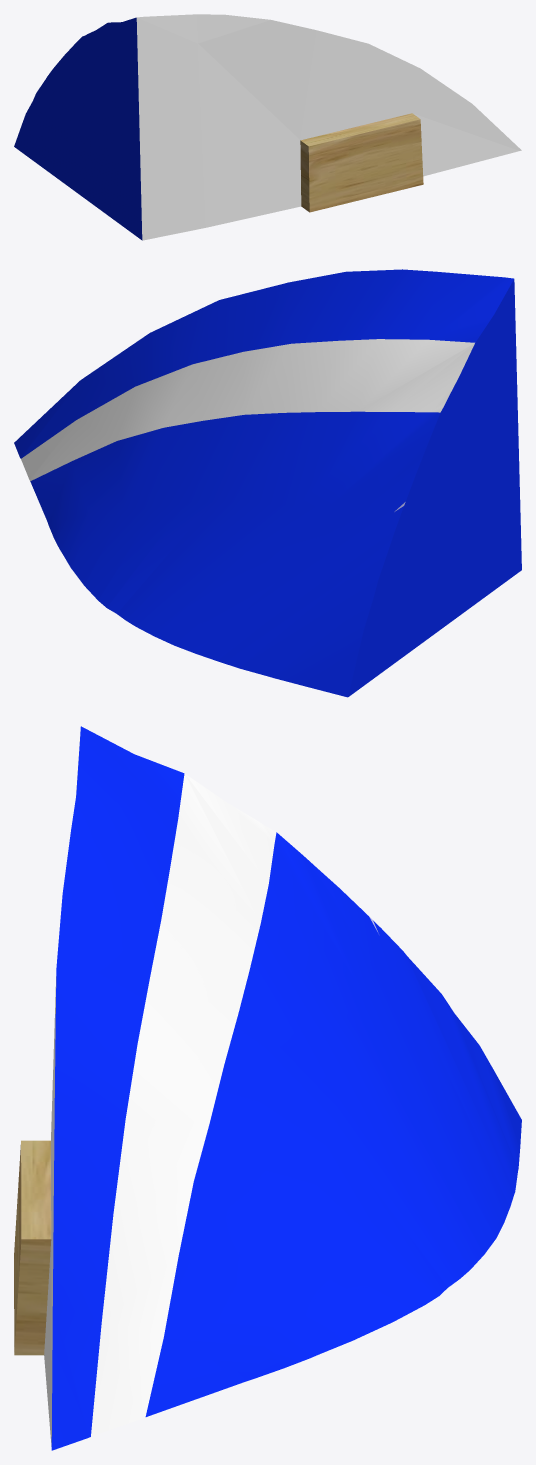
The model's file is frontLeft.obj.
3 renders of one model, top to bottom at view 1: azimuth 30°, elevation 25°; view 2: azimuth 150°, elevation 25°; view 3: azimuth 270°, elevation 25°, orthographic. The views are drawn at different scales.
Parts seen in each view (by area): view 1: front_l_linkk.001; view 2: front_l_linkk.001; view 3: front_l_linkk.001.
Boxes of the visible parts, box(x1,y1,x2,y2) form: front_l_linkk.001: box(14, 14, 521, 240); front_l_linkk.001: box(14, 269, 521, 697); front_l_linkk.001: box(14, 726, 521, 1450).
Bounding box in the file's own units: 1.7 × 0.9446 × 1.1.
5 materials, 5 textured.
